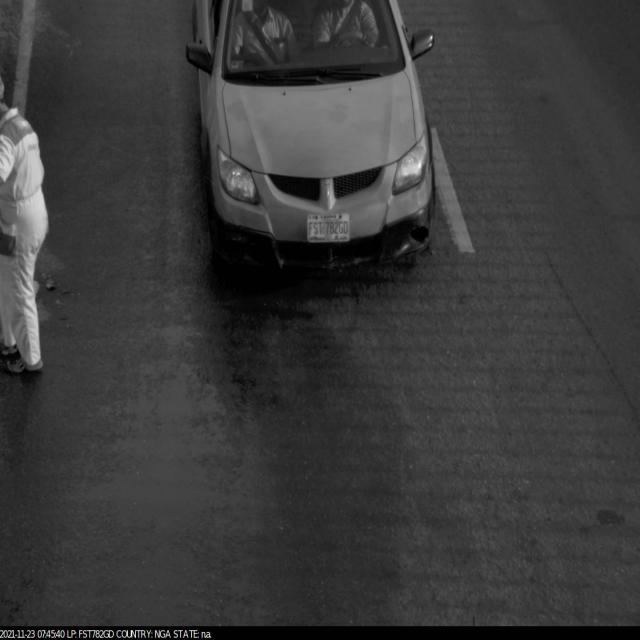windshield: (201, 0, 411, 93)
